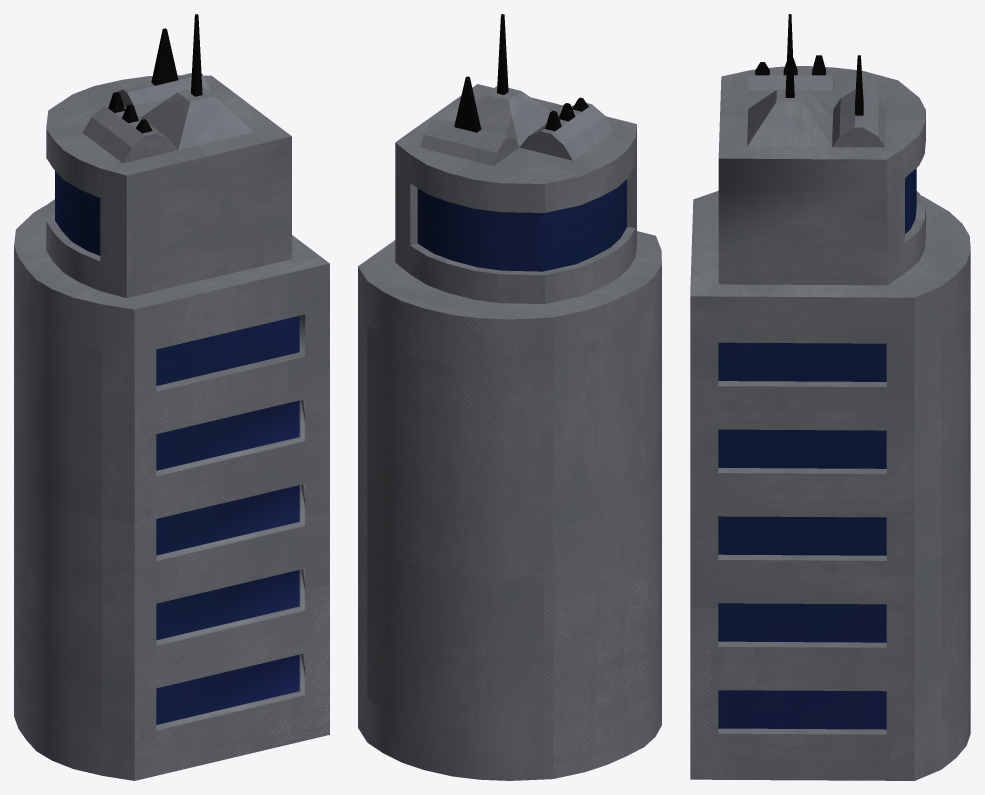
File: Generic_Building.fbx
The picture shows the model from 3 angles, left to right: view 1: azimuth 30°, elevation 25°; view 2: azimuth 150°, elevation 25°; view 3: azimuth 270°, elevation 25°; orthographic projection. The views are drawn at different scales.
Parts seen in each view (by area): view 1: Generic_Building; view 2: Generic_Building; view 3: Generic_Building.
Boxes of the visible parts, bbox=[...] form: Generic_Building: bbox=[14, 14, 329, 780]; Generic_Building: bbox=[358, 14, 661, 780]; Generic_Building: bbox=[690, 14, 970, 780].
Bounding box in the file's own units: 13.55 × 38.11 × 13.41.
